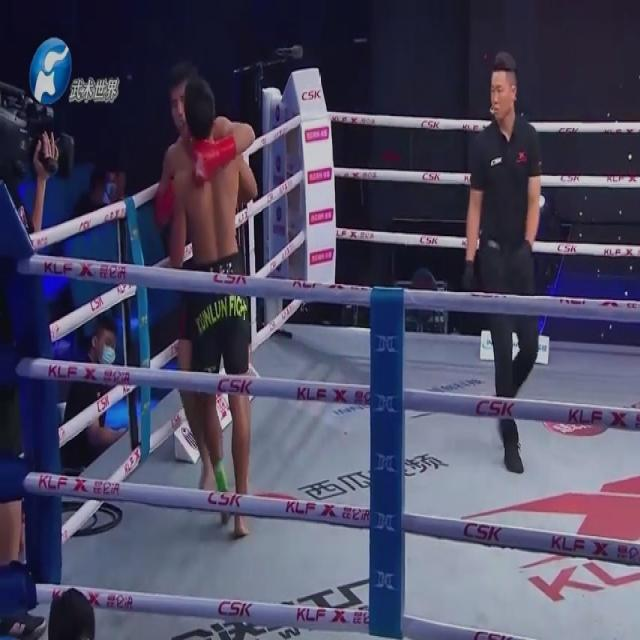fight: (154, 56, 260, 538)
non-fight: (463, 49, 542, 472)
